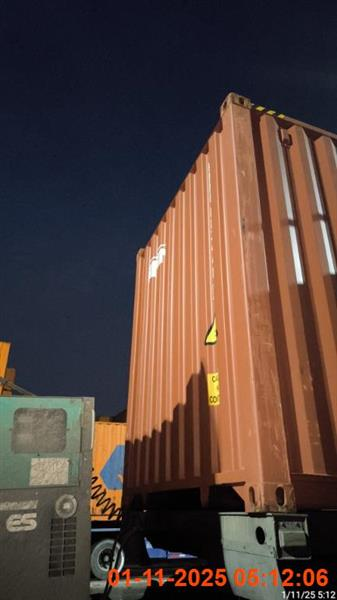broken: (112, 93, 335, 596)
